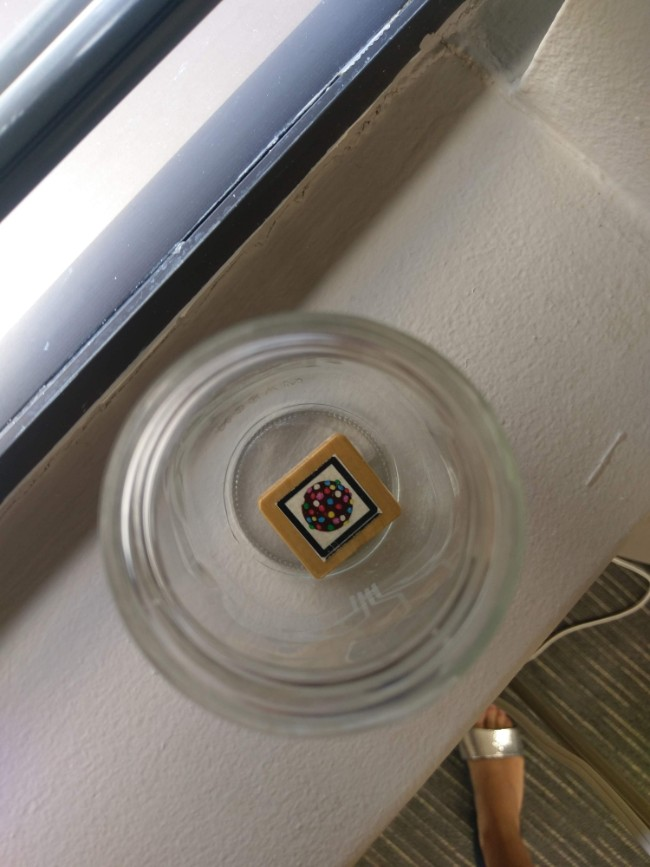cookie: (273, 447, 389, 564)
